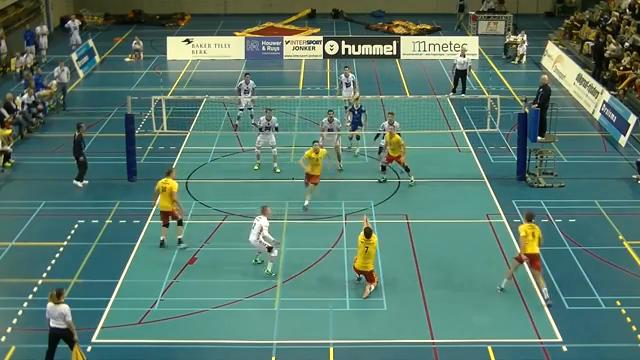Player: (498, 212, 550, 305), (154, 168, 185, 248), (379, 126, 414, 185), (249, 205, 277, 275), (299, 140, 327, 210), (252, 108, 279, 172), (320, 110, 342, 170), (233, 72, 255, 130), (373, 112, 400, 158), (346, 95, 366, 154), (338, 66, 357, 116)
Receive: (345, 212, 384, 304)
ball: (351, 91, 361, 101)
